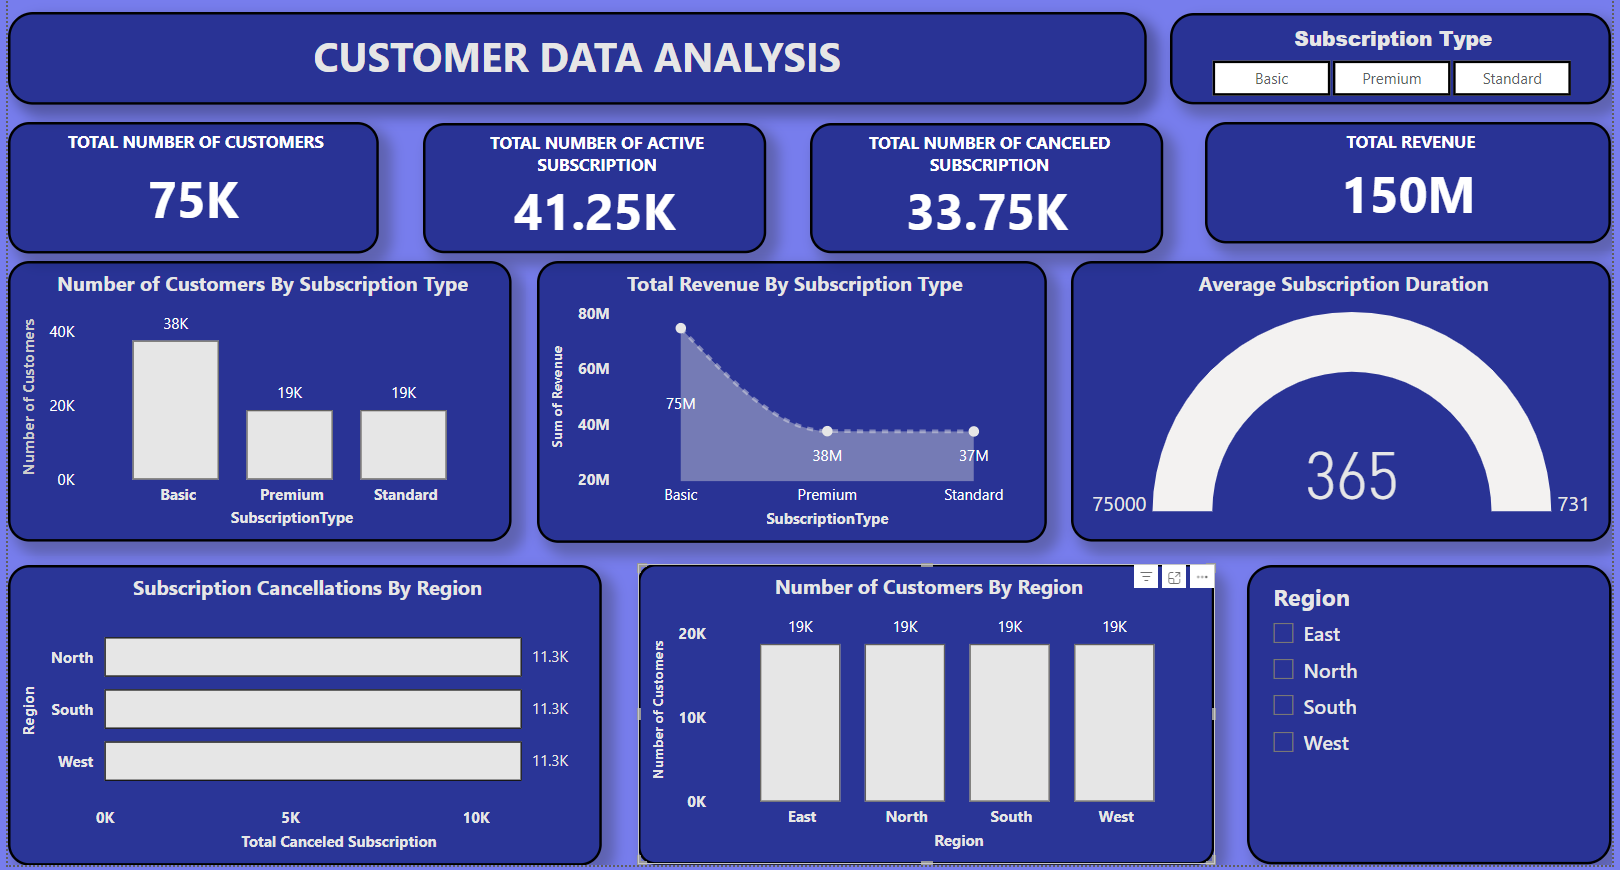

The dashboard page shown, as its layout file describes it:
{"tool":"powerbi","page":{"name":"CUSTOMER DATA ANALYSIS","canvas":[1280,720],"ordinal":0},"visuals":[{"type":"card","title":"TOTAL NUMBER OF CUSTOMERS","fields":{"Values":["CustomerData (2).NUMBER OF CUSTOMERS"]},"box":[0,127.1,295.6,105],"z":0},{"type":"textbox","box":[0,39.4,908.8,73.5],"z":1000},{"type":"slicer","title":"Subscription Type","fields":{"Values":["CustomerData.SubscriptionType"]},"box":[927.5,39.8,352.4,72.8],"z":2000},{"type":"card","title":"TOTAL NUMBER OF ACTIVE SUBSCRIPTION","fields":{"Values":["Count(CustomerData)"]},"box":[331.5,127.4,273.8,104.4],"z":3000},{"type":"card","title":"TOTAL NUMBER OF CANCELED SUBSCRIPTION","fields":{"Values":["Count(CustomerData)"]},"box":[640.1,127.4,282.5,104.4],"z":4000},{"type":"clusteredColumnChart","title":"Number of Customers By Subscription Type","fields":{"Category":["CustomerData.SubscriptionType"],"Y":["CustomerData.NUMBER OF CUSTOMERS"]},"box":[0,238,402.4,224.5],"z":5000},{"type":"clusteredColumnChart","title":"Number of Customers By Region","fields":{"Category":["CustomerData.Region"],"Y":["CustomerData.NUMBER OF CUSTOMERS"]},"box":[503.2,479.5,460.5,239.7],"z":6000},{"type":"gauge","title":"Average Subscription Duration","fields":{"Y":["CustomerData.Average Subscription Duration"],"MinValue":["CustomerData.NUMBER OF CUSTOMERS"]},"box":[848.8,238,431.2,224.5],"z":7000},{"type":"stackedAreaChart","title":"Total Revenue By Subscription Type","fields":{"Category":["CustomerData.SubscriptionType"],"Y":["Sum(CustomerData.Revenue)"]},"box":[422.5,238.2,407.5,224.7],"z":8000},{"type":"card","title":"TOTAL REVENUE","fields":{"Values":["Sum(CustomerData.Revenue)"]},"box":[955.5,127.1,324.4,96.6],"z":9000},{"type":"clusteredBarChart","title":"Subscription Cancellations By Region","fields":{"Category":["CustomerData.Region"],"Y":["Count(CustomerData)"]},"box":[0,480.3,474.4,239.7],"z":10000},{"type":"slicer","title":"Subscription Type","fields":{"Values":["CustomerData.Region"]},"box":[989,480.6,291,239.3],"z":11000}]}

Visuals, with their boxes on the page's 1280x720 design canvas (x1, y1, x2, y2). These are canvas units, not pixel positions in the 1620x870 screenshot, which may show the page scaled, cropped or inside an application window:
"TOTAL NUMBER OF CUSTOMERS" card: [x1=0, y1=127, x2=296, y2=232]
textbox: [x1=0, y1=39, x2=909, y2=113]
"Subscription Type" slicer: [x1=928, y1=40, x2=1280, y2=113]
"TOTAL NUMBER OF ACTIVE SUBSCRIPTION" card: [x1=332, y1=127, x2=605, y2=232]
"TOTAL NUMBER OF CANCELED SUBSCRIPTION" card: [x1=640, y1=127, x2=923, y2=232]
"Number of Customers By Subscription Type" clusteredColumnChart: [x1=0, y1=238, x2=402, y2=462]
"Number of Customers By Region" clusteredColumnChart: [x1=503, y1=480, x2=964, y2=719]
"Average Subscription Duration" gauge: [x1=849, y1=238, x2=1280, y2=462]
"Total Revenue By Subscription Type" stackedAreaChart: [x1=422, y1=238, x2=830, y2=463]
"TOTAL REVENUE" card: [x1=956, y1=127, x2=1280, y2=224]
"Subscription Cancellations By Region" clusteredBarChart: [x1=0, y1=480, x2=474, y2=720]
"Subscription Type" slicer: [x1=989, y1=481, x2=1280, y2=720]
